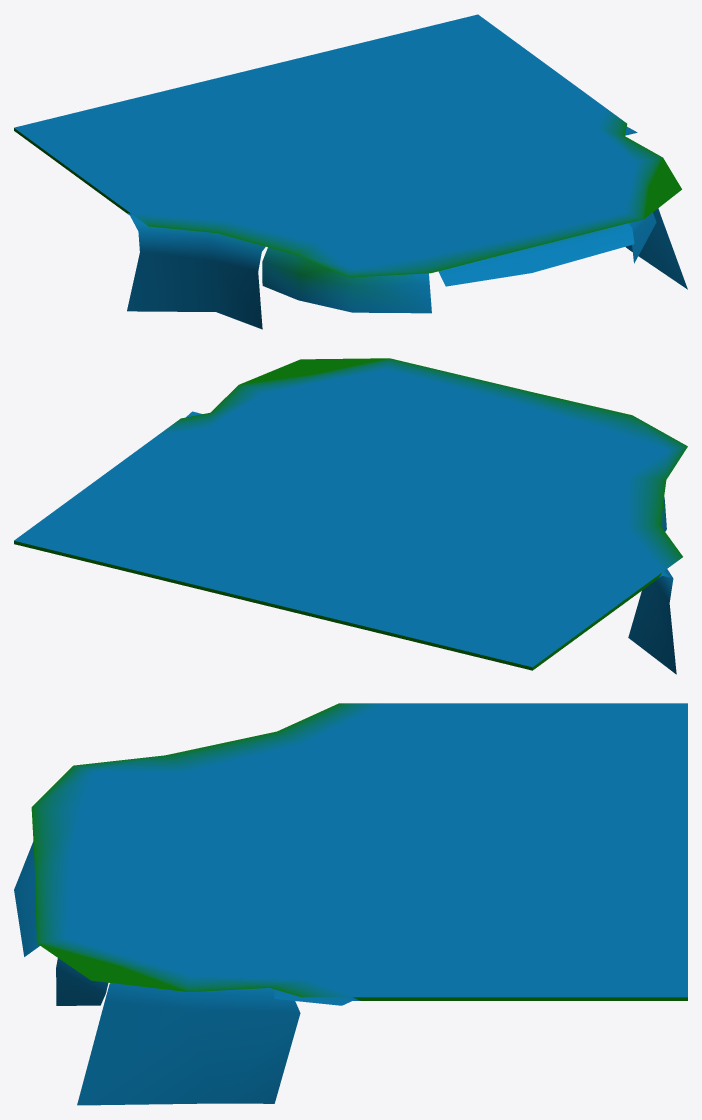
Rendered from DBK_Drywall_Ceiling_Tile_D.fbx.
The picture shows the model from 3 angles, top to bottom: view 1: azimuth 30°, elevation 25°; view 2: azimuth 150°, elevation 25°; view 3: azimuth 270°, elevation 25°; orthographic projection. The views are drawn at different scales.
Visible parts, largest first — view 1: DBK_Drywall_Ceiling_Tile_D; view 2: DBK_Drywall_Ceiling_Tile_D; view 3: DBK_Drywall_Ceiling_Tile_D.
Boxes of the visible parts, bbox=[...] form: DBK_Drywall_Ceiling_Tile_D: bbox=[14, 14, 687, 329]; DBK_Drywall_Ceiling_Tile_D: bbox=[14, 358, 687, 674]; DBK_Drywall_Ceiling_Tile_D: bbox=[14, 703, 687, 1105].
Size of what is drawn, in the model's own units: 306 by 59.55 by 291.
